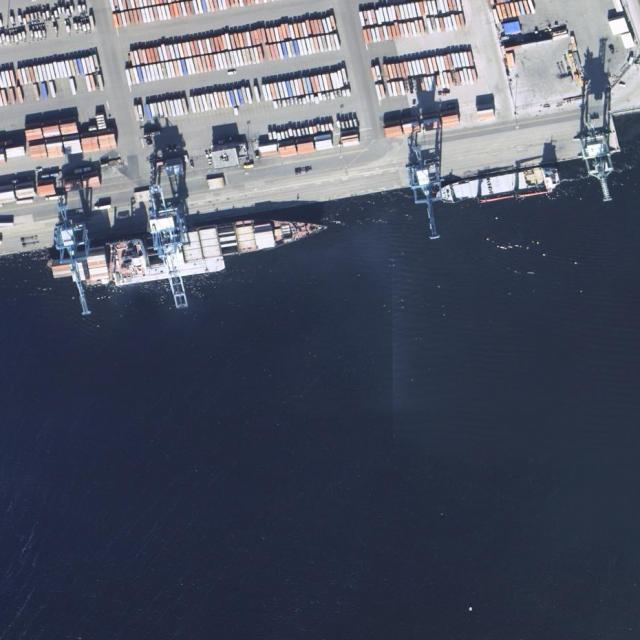Cargo: (433, 163, 562, 206)
Container Ship: (47, 206, 333, 295)
